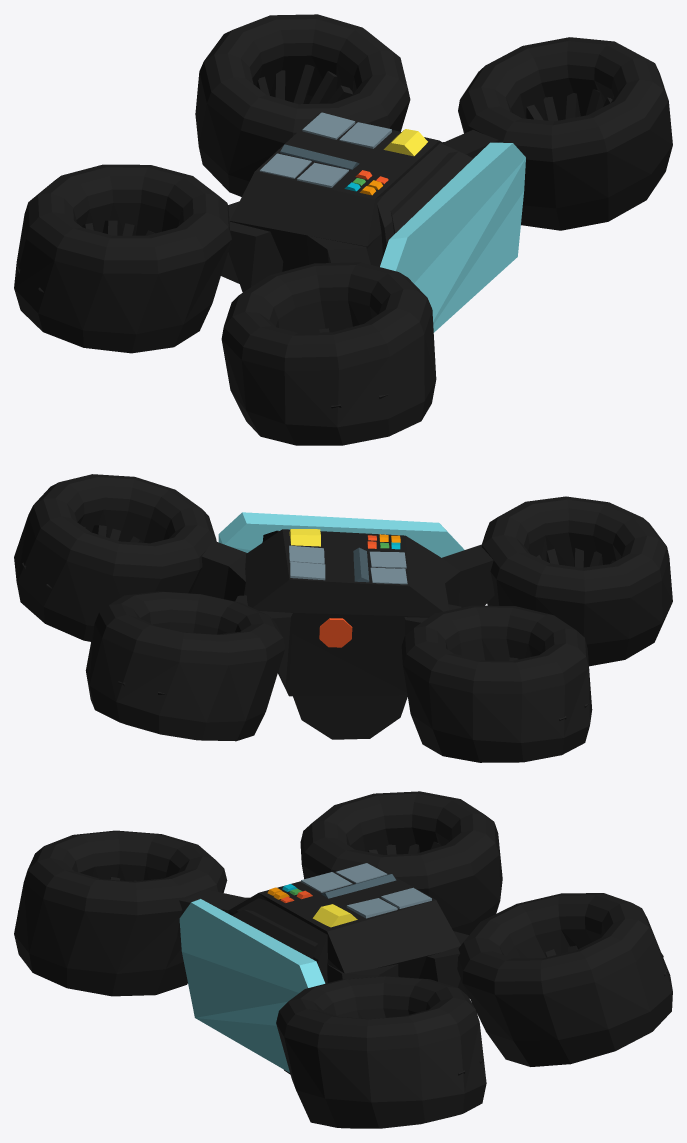
Rendered from Drone.fbx.
The picture shows the model from 3 angles, top to bottom: view 1: azimuth 30°, elevation 25°; view 2: azimuth 150°, elevation 25°; view 3: azimuth 270°, elevation 25°; orthographic projection. The views are drawn at different scales.
Visible parts, largest first — view 1: mesh_1614494365, mesh_1027900657, mesh_1050888480, mesh_199693419, group_1964730623, mesh_675670638, group_1989462883, group_1223357789, group_621439970, group_403273125, mesh_254572509, mesh_589009900 (+5 smaller); view 2: mesh_1614494365, mesh_199693419, mesh_1050888480, mesh_1027900657, mesh_675670638, group_1964730623, group_834735564, group_403273125, group_55465247, group_118517101, group_42317701, mesh_254572509 (+5 smaller); view 3: mesh_199693419, mesh_1050888480, mesh_1027900657, mesh_1614494365, group_1964730623, mesh_675670638, group_621439970, group_1223357789, group_118517101, group_403273125, group_55465247, mesh_254572509 (+5 smaller).
Boxes of the visible parts, x1,y1,x2,y2 form: mesh_1614494365: [14, 164, 231, 353]; mesh_1027900657: [221, 262, 436, 445]; mesh_1050888480: [458, 37, 672, 230]; mesh_199693419: [195, 14, 410, 196]; group_1964730623: [380, 142, 525, 332]; mesh_675670638: [230, 113, 448, 271]; group_1989462883: [182, 201, 283, 292]; group_1223357789: [390, 151, 473, 234]; group_621439970: [377, 143, 467, 256]; group_403273125: [306, 233, 382, 266]; mesh_254572509: [302, 112, 355, 139]; mesh_589009900: [339, 122, 391, 148]; mesh_1614494365: [401, 605, 592, 762]; mesh_199693419: [85, 591, 284, 741]; mesh_1050888480: [14, 474, 216, 641]; mesh_1027900657: [481, 496, 672, 666]; mesh_675670638: [245, 529, 449, 696]; group_1964730623: [218, 512, 464, 557]; group_834735564: [293, 695, 407, 739]; group_403273125: [441, 544, 494, 607]; group_55465247: [191, 540, 246, 601]; group_118517101: [220, 595, 292, 686]; group_42317701: [319, 618, 352, 647]; mesh_254572509: [290, 561, 325, 580]; mesh_199693419: [457, 893, 672, 1066]; mesh_1050888480: [276, 976, 486, 1128]; mesh_1027900657: [14, 830, 227, 996]; mesh_1614494365: [300, 791, 502, 934]; group_1964730623: [179, 899, 325, 1072]; mesh_675670638: [229, 862, 460, 978]; group_621439970: [235, 898, 327, 983]; group_1223357789: [232, 909, 318, 959]; group_118517101: [419, 931, 469, 998]; group_403273125: [177, 889, 249, 938]; group_55465247: [327, 964, 398, 982]; mesh_254572509: [381, 887, 431, 908].
Bounding box in the file's own units: 37.05 × 10.98 × 35.38.
